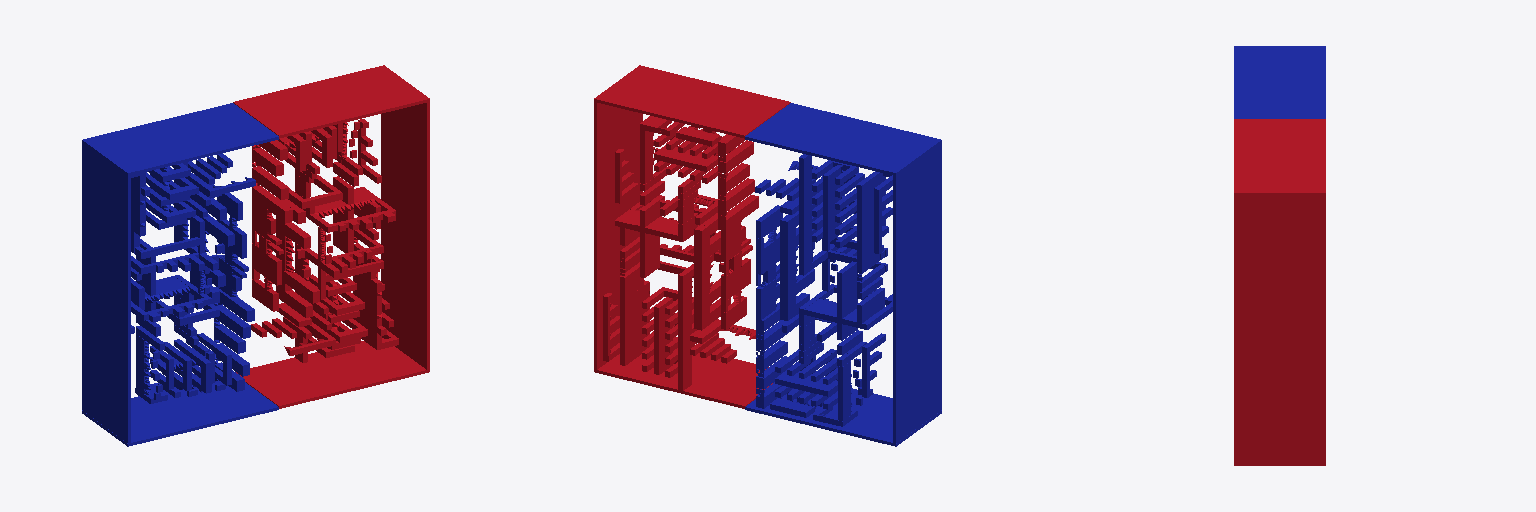
The model's file is tinker.obj.
The picture shows the model from 3 angles: view 1: azimuth 30°, elevation 25°; view 2: azimuth 150°, elevation 25°; view 3: azimuth 270°, elevation 25°; orthographic projection.
Visible parts, largest first — view 1: obj_0; view 2: obj_0; view 3: obj_0.
Part boxes in pixels (bbox=[...]): obj_0: bbox=[82, 65, 429, 446]; obj_0: bbox=[594, 65, 941, 446]; obj_0: bbox=[1234, 46, 1325, 465].
Size of the model in its own units: 230 by 199 by 60.6.